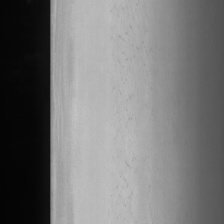silk_spot: (108, 3, 149, 224)
